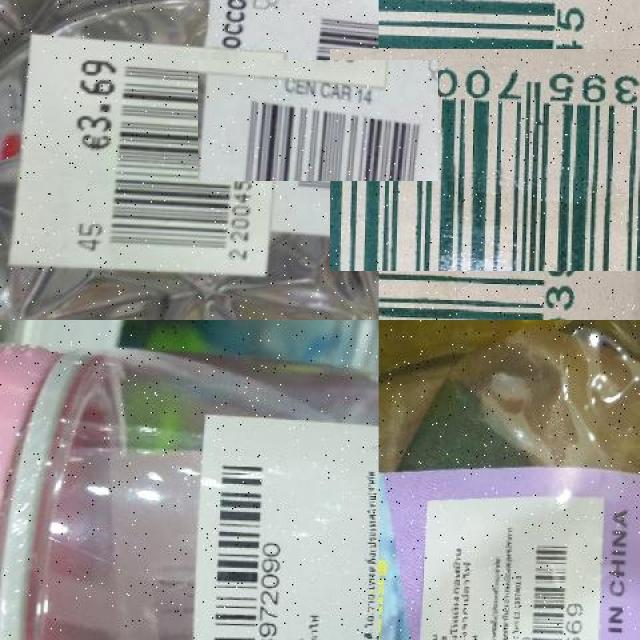Barcode: (354, 24, 626, 296), (12, 36, 288, 279), (228, 29, 408, 210), (204, 453, 288, 640), (526, 532, 590, 640)
